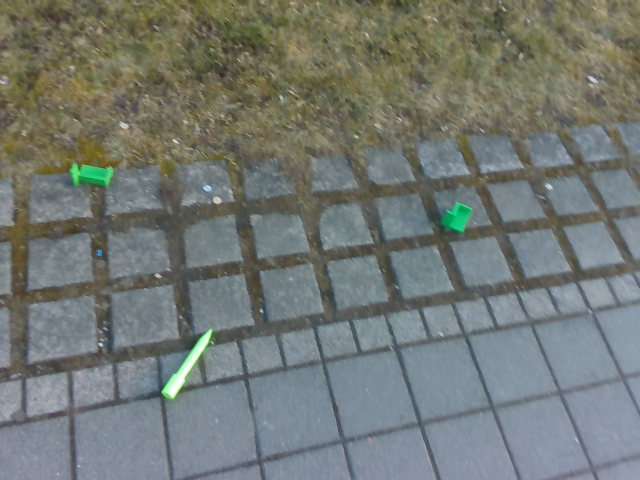Probe: (160, 320, 218, 405)
